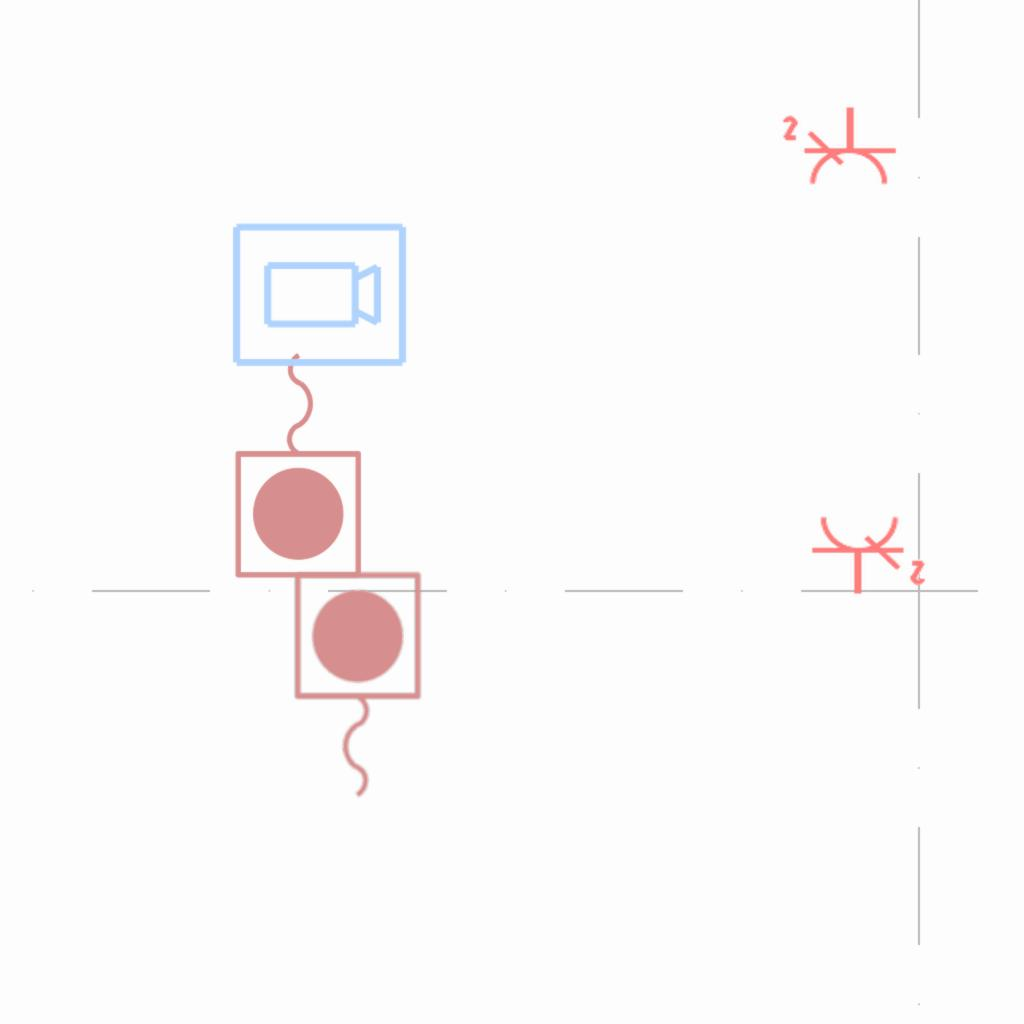KFO_Kamera_mit_Festobjektiv: (228, 219, 410, 373)
Schukosteckdose_mehrfach: (780, 101, 901, 189), (807, 512, 928, 600)
Zugtaster: (284, 564, 428, 808), (228, 342, 372, 586)
